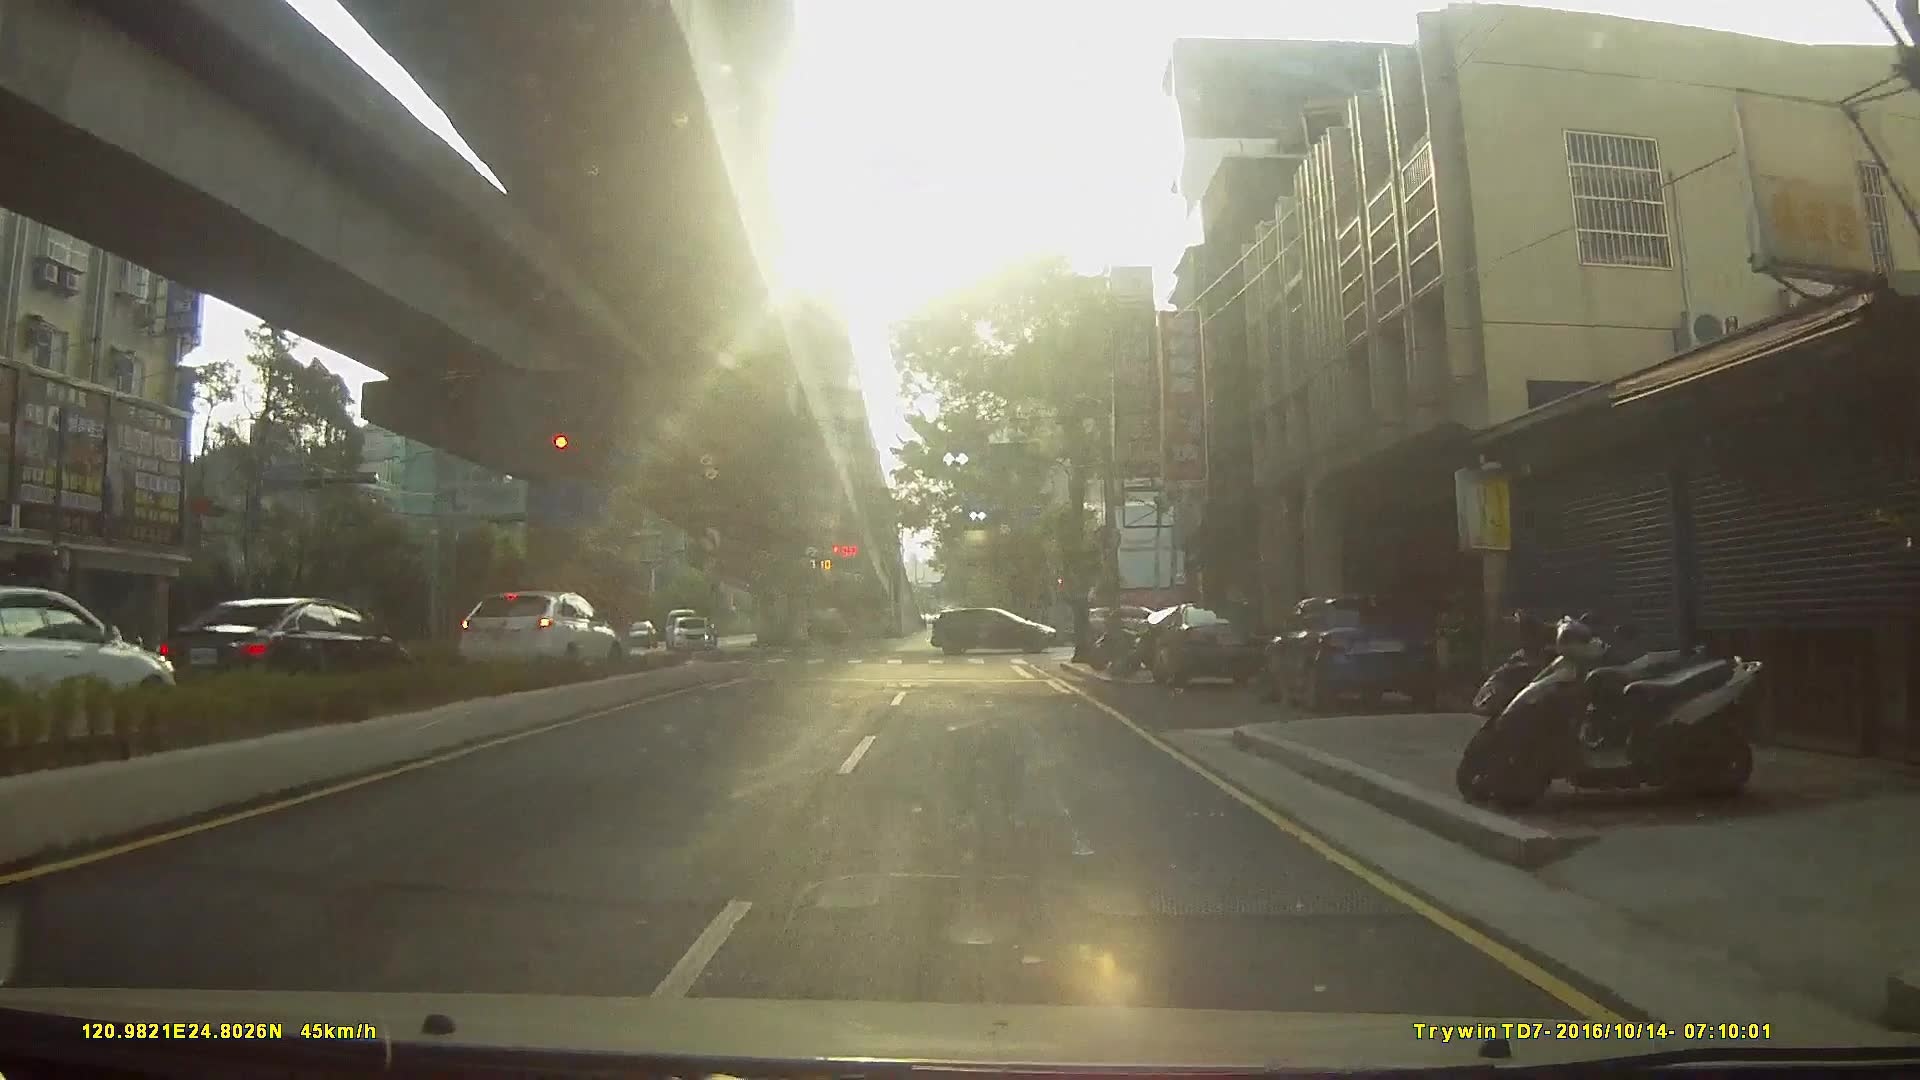vehicle: (1, 583, 181, 741), (148, 596, 425, 698), (1266, 593, 1451, 717), (446, 592, 615, 678), (1151, 603, 1276, 694), (934, 607, 1062, 657), (666, 617, 713, 655), (615, 622, 655, 651)
